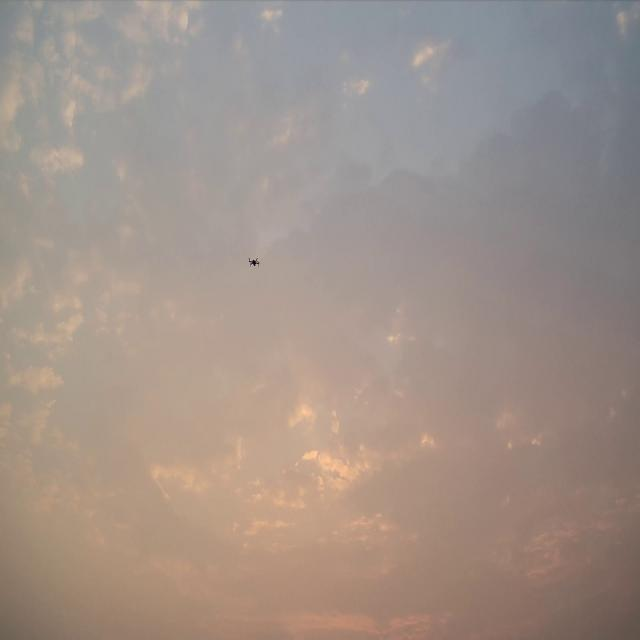UAV: (248, 257, 261, 267)
